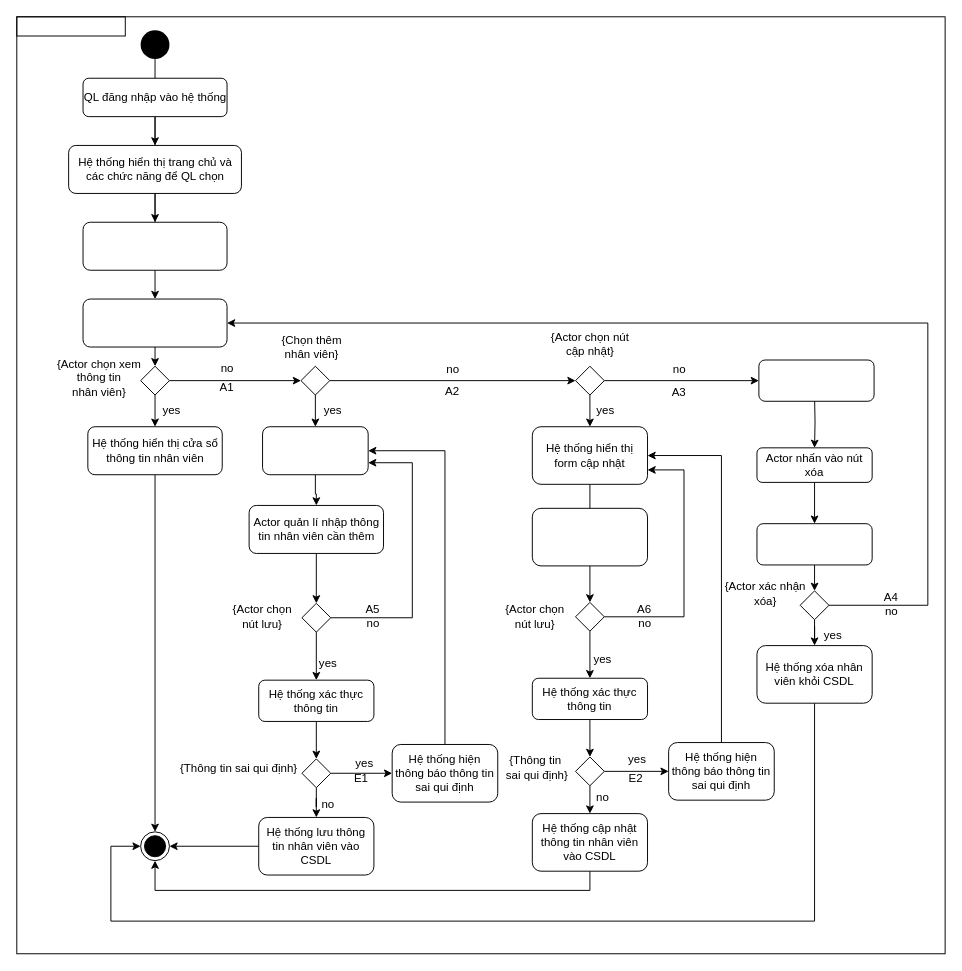
Image size: 962x971. Some labels were removed from this diagram. Each missing label, with the centre of its shape:
"Activity Diagram" belongs at (70,26).
"Actor chọn nhân viên muốn xóa" belongs at (816,380).
"Actor thay đổi thông tin cần thay đổi" belongs at (589,536).
"Hệ thống chuyển tiếp vào trang danh mục nhân viên" belongs at (154,322).
"Hệ thống hiển bảng xác nhận xóa" belongs at (814,544).
"Hệ thống hiển thị form thêm nhận viên" belongs at (315,450).
"QL chọn chức năng quản li" belongs at (154,245).
